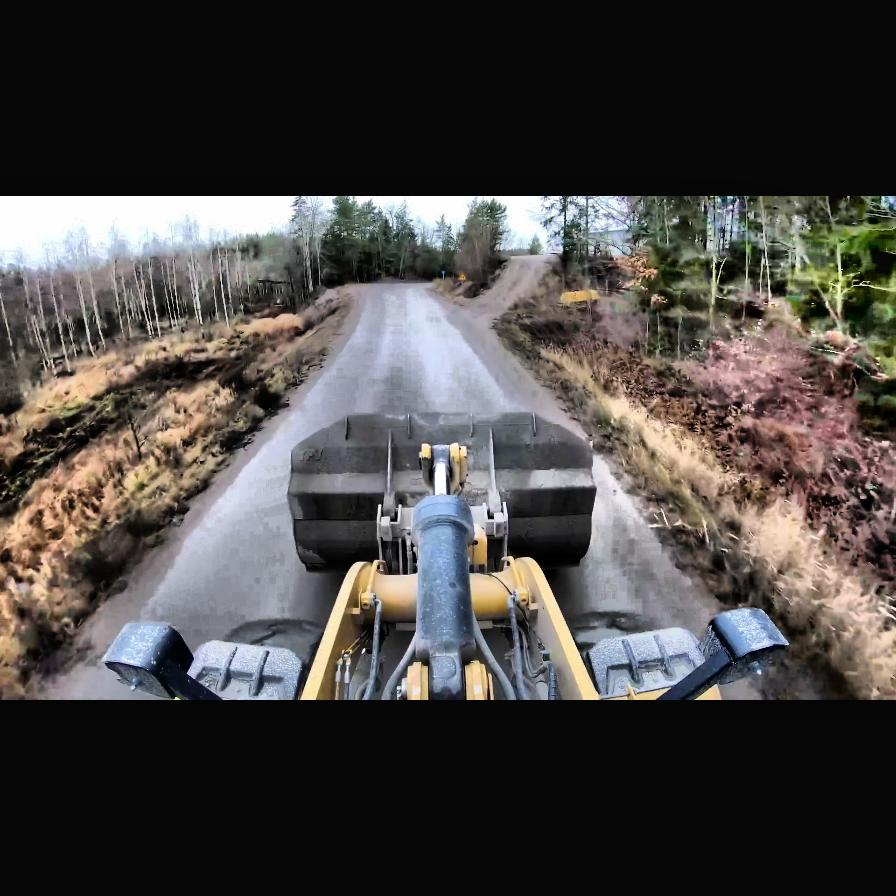anchor: (419, 442, 467, 496)
